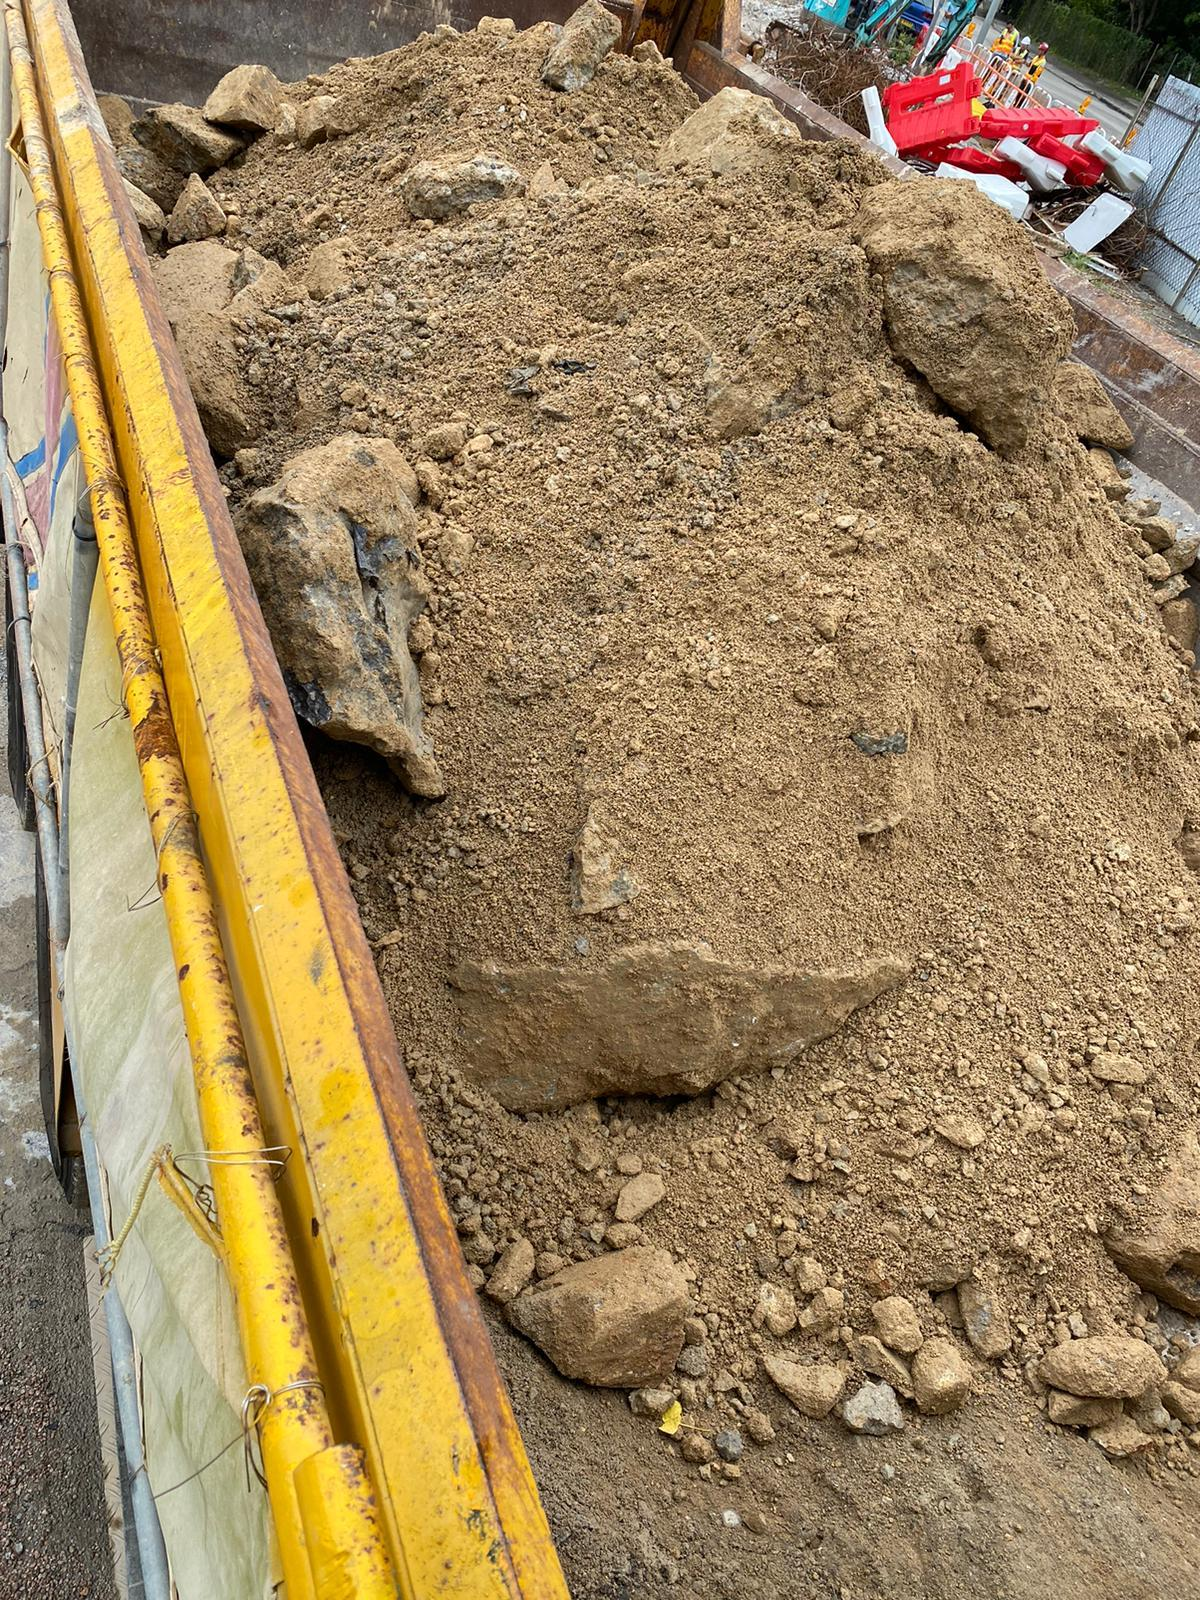dirt: (86, 8, 1197, 1595)
stone: (229, 430, 447, 800), (853, 173, 1079, 455), (500, 1243, 689, 1390), (1037, 1333, 1166, 1400), (400, 152, 526, 220), (132, 102, 245, 174), (539, 0, 621, 92), (760, 1349, 847, 1419), (200, 62, 285, 131), (909, 1335, 972, 1414), (838, 1377, 904, 1435)
